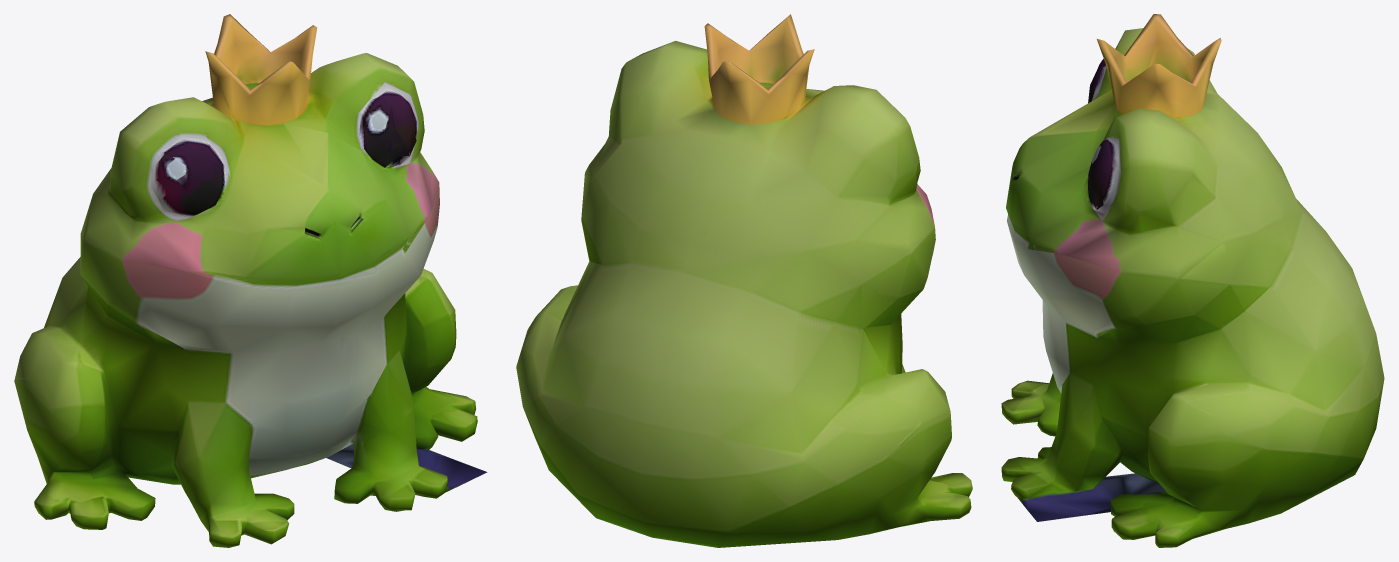
The model's file is frog.fbx.
The picture shows the model from 3 angles, left to right: view 1: azimuth 30°, elevation 25°; view 2: azimuth 150°, elevation 25°; view 3: azimuth 270°, elevation 25°; orthographic projection. The views are drawn at different scales.
Parts seen in each view (by area): view 1: frog; view 2: frog; view 3: frog.
Part boxes in pixels (box(x1,y1,x2,y2)): frog: box(14, 14, 487, 547); frog: box(516, 14, 972, 547); frog: box(1001, 14, 1384, 547).
Size of the model in its own units: 87.05 by 82.95 by 70.16.
